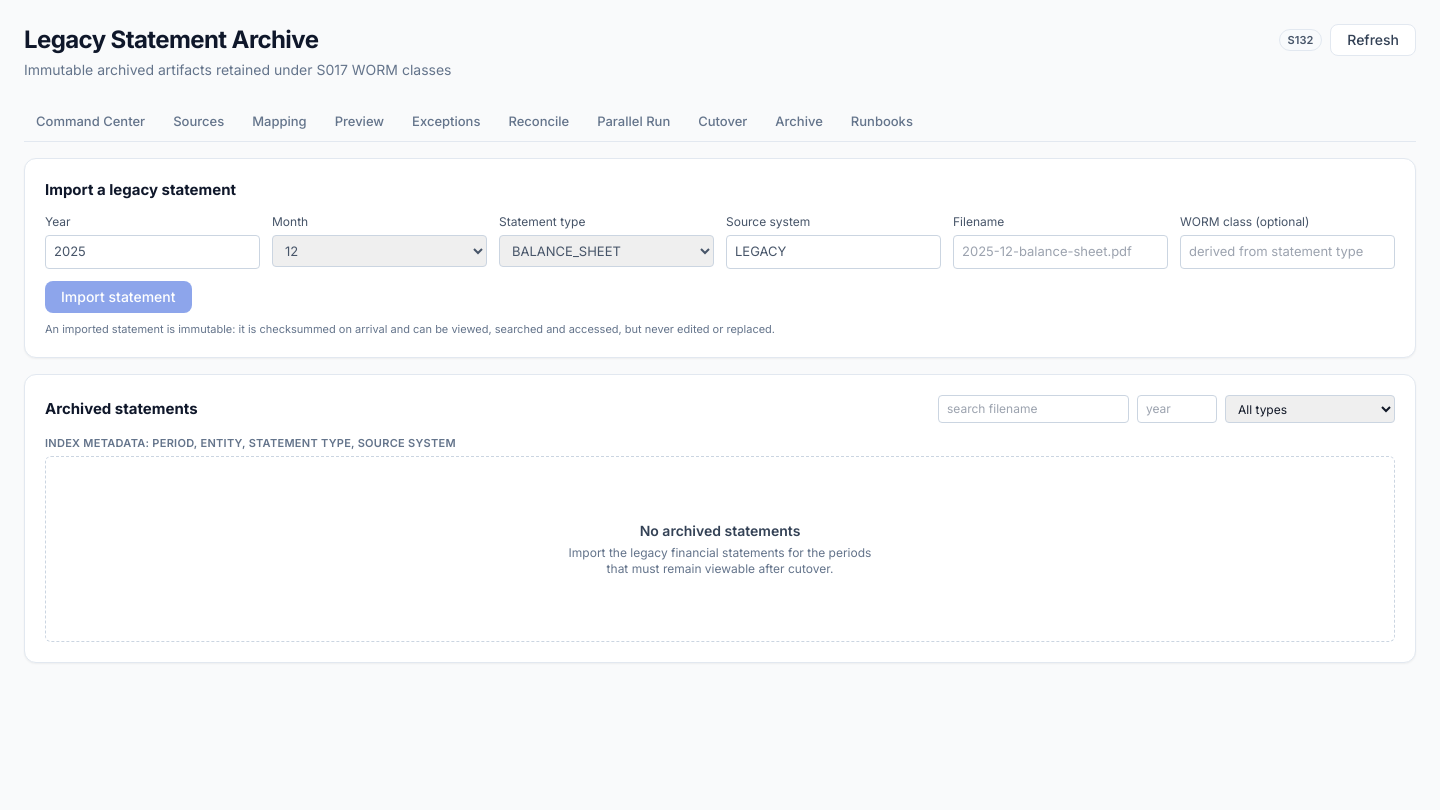
Test: MigrationArchive › will not import without a filename
Expected: the button with test id "archive-import-btn" is disabled, x1=45 y1=280 x2=192 y2=312
Type "2025-12-income.pdf" into the field with test id "archive-filename-input".
click(1060, 252); type("2025-12-income.pdf")  # box x1=953 y1=235 x2=1168 y2=268
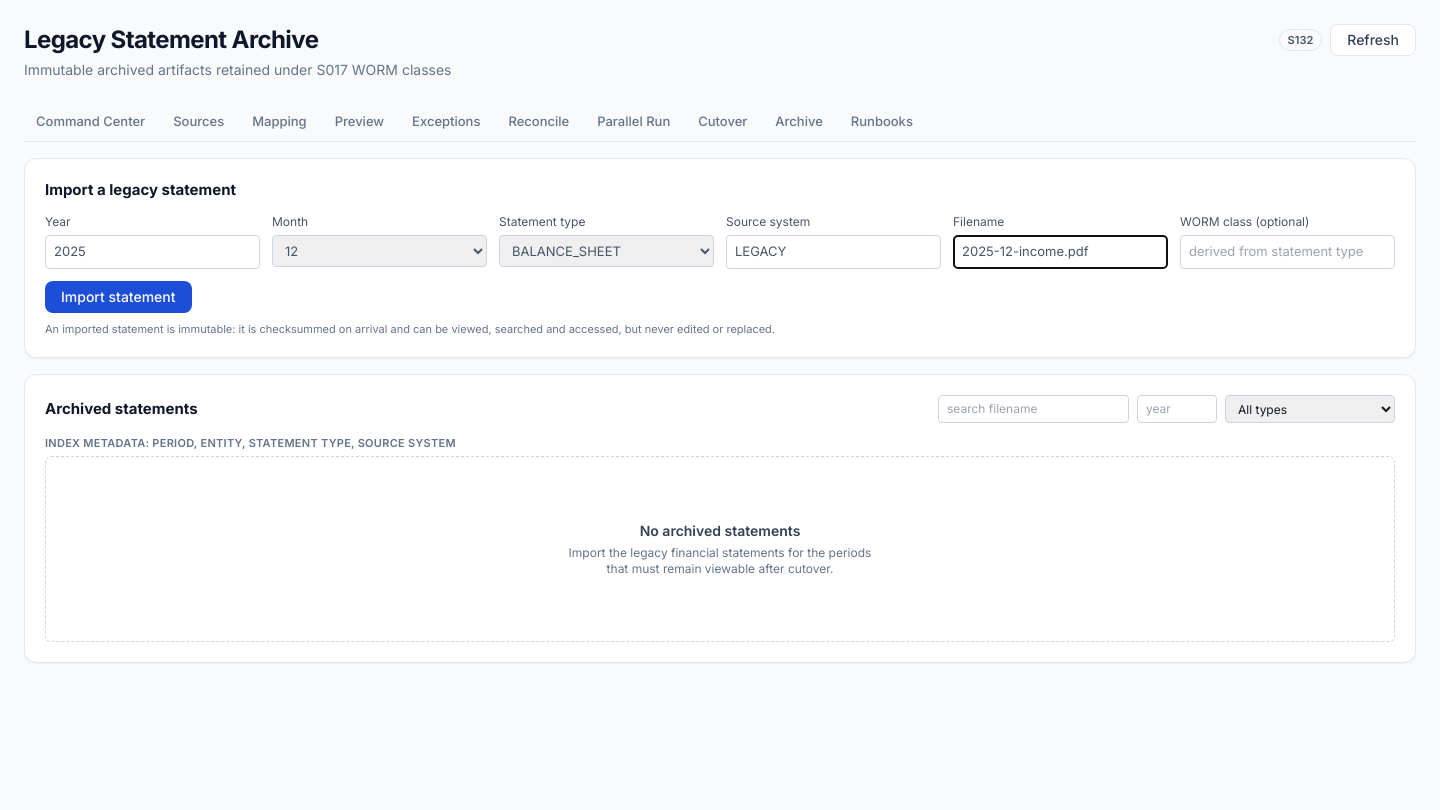
Now the button with test id "archive-import-btn" is enabled, box x1=45 y1=280 x2=192 y2=312
